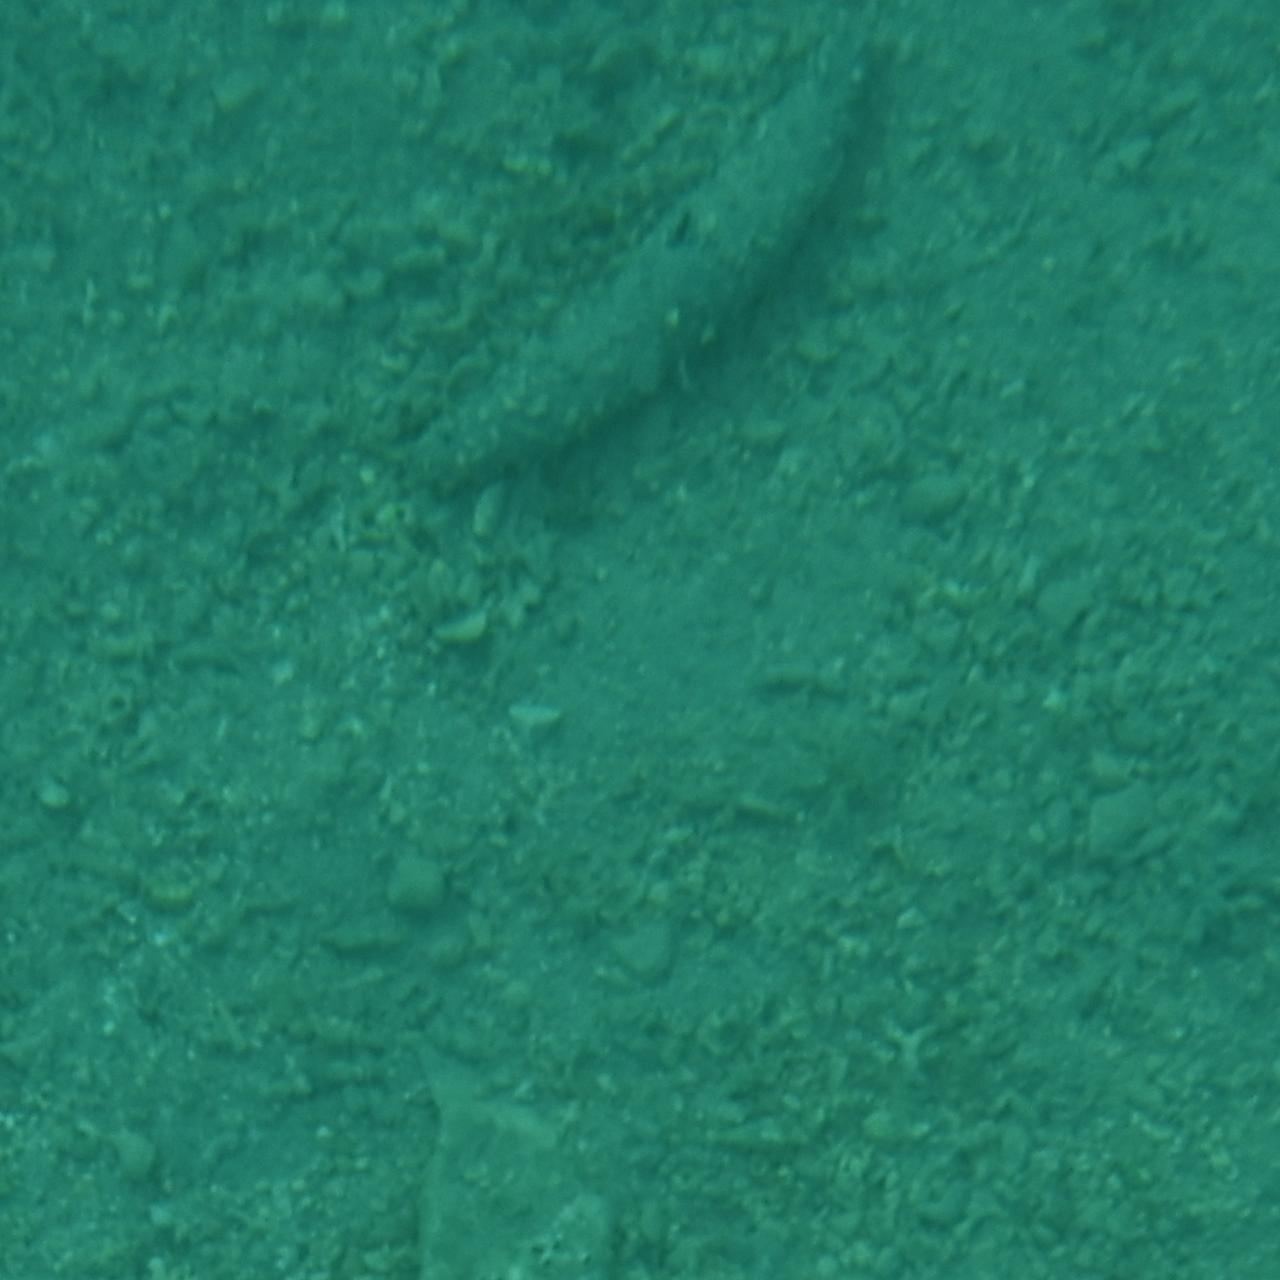Holothuria tubulosa: (390, 42, 890, 516)
